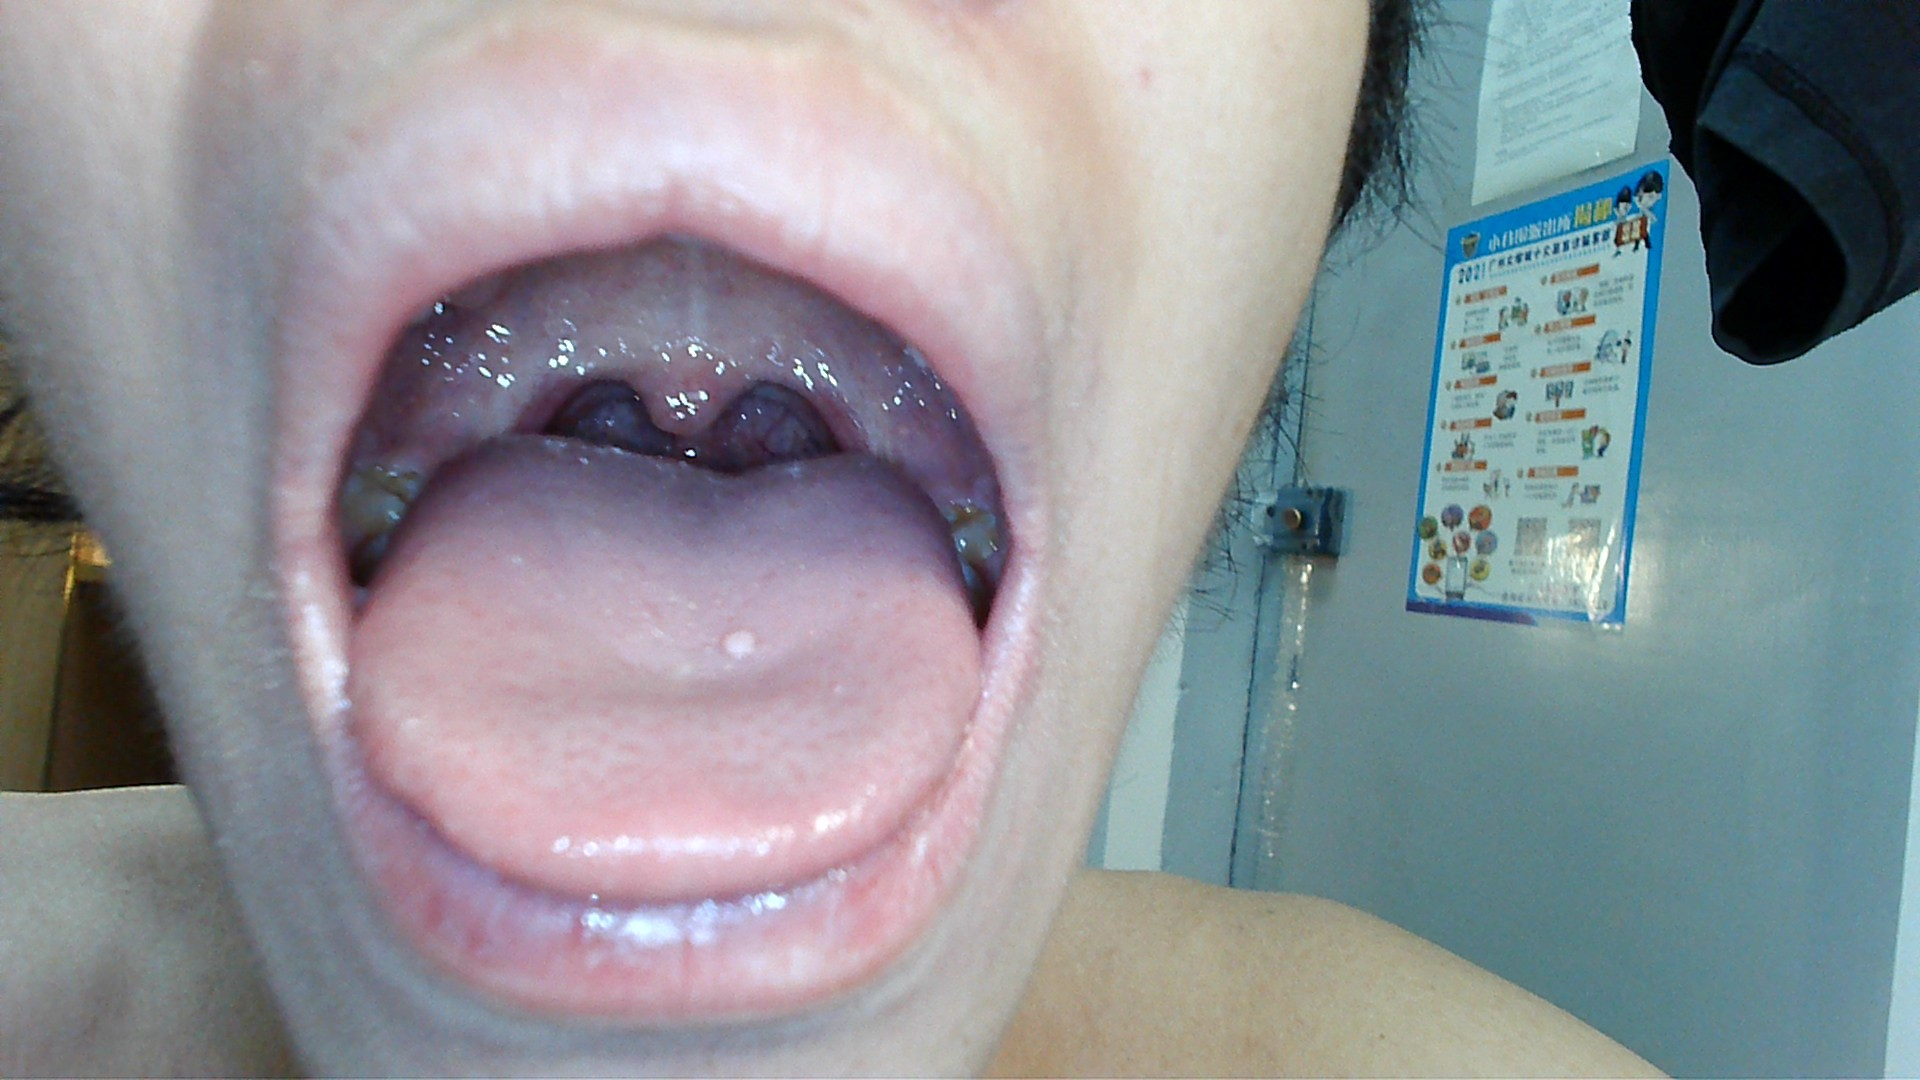throat: (794, 348, 886, 460), (487, 348, 585, 440)
